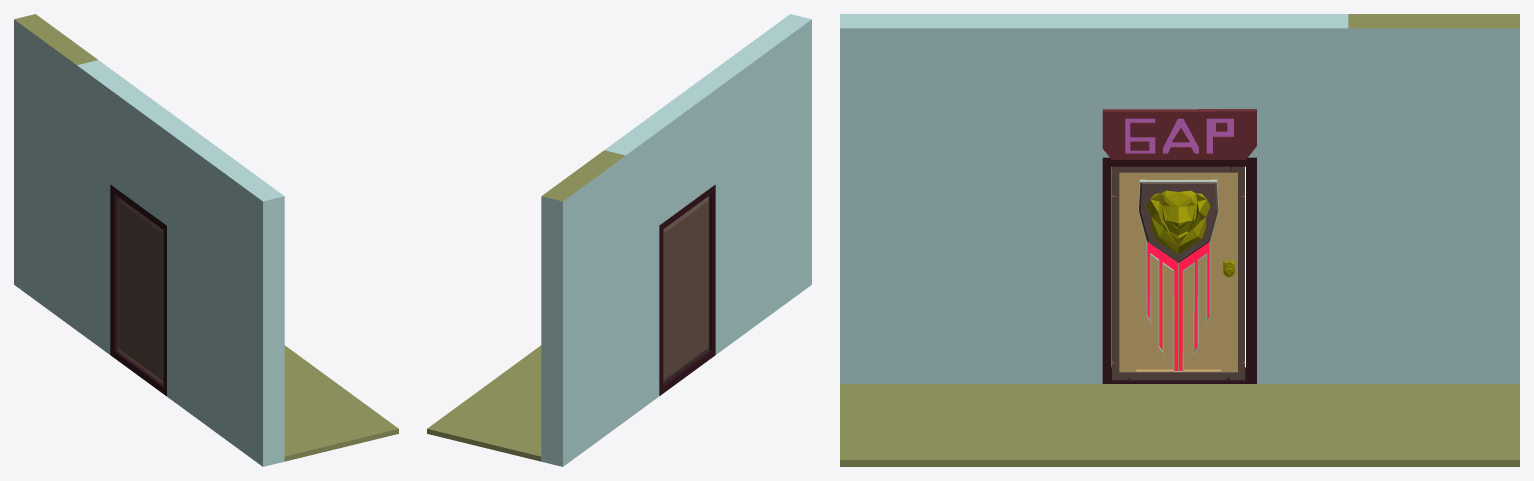
The model's file is Bar.fbx.
3 views of the same model, side by side, from view 1: azimuth 30°, elevation 25°; view 2: azimuth 150°, elevation 25°; view 3: azimuth 270°, elevation 25° (orthographic). The views are drawn at different scales.
Parts seen in each view (by area): view 1: Cube, Door; view 2: Cube, Door; view 3: Cube, Door.
Part boxes in pixels (<box>): Cube: <box>14,14,398,466</box>; Door: <box>117,197,163,384</box>; Cube: <box>427,14,811,466</box>; Door: <box>663,196,709,383</box>; Cube: <box>840,14,1519,466</box>; Door: <box>1112,166,1244,379</box>.
Bounding box in the file's own units: 607 × 1132 × 1925.
